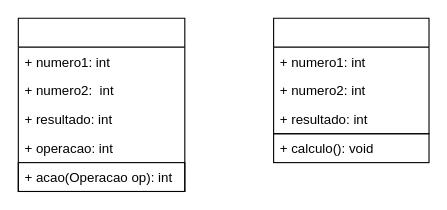
Image size: 447x210. Some labels were removed from this diagram. Here are the shapes that lost their labels. From the top down, the box of each, then its label:
(273, 17, 429, 134): Operacao
(17, 17, 185, 191): Calculadora
